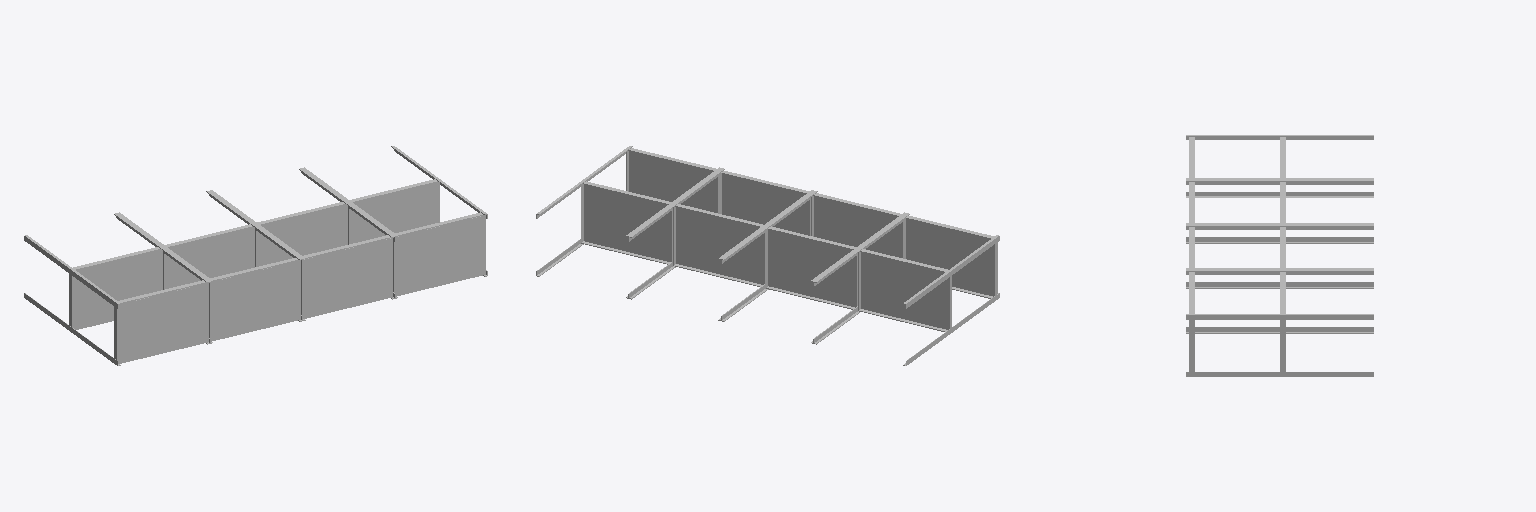
File: shelf0d150d20d2.obj
3 views of the same model, side by side, from view 1: azimuth 30°, elevation 25°; view 2: azimuth 150°, elevation 25°; view 3: azimuth 270°, elevation 25° (orthographic).
Visible parts, largest first — view 1: shelf; view 2: shelf; view 3: shelf.
Boxes of the visible parts, <box> form: shelf: <box>24,146,487,365</box>; shelf: <box>536,146,999,365</box>; shelf: <box>1186,135,1373,376</box>.
Size of the model in its own units: 1.7 by 0.275 by 0.7467.